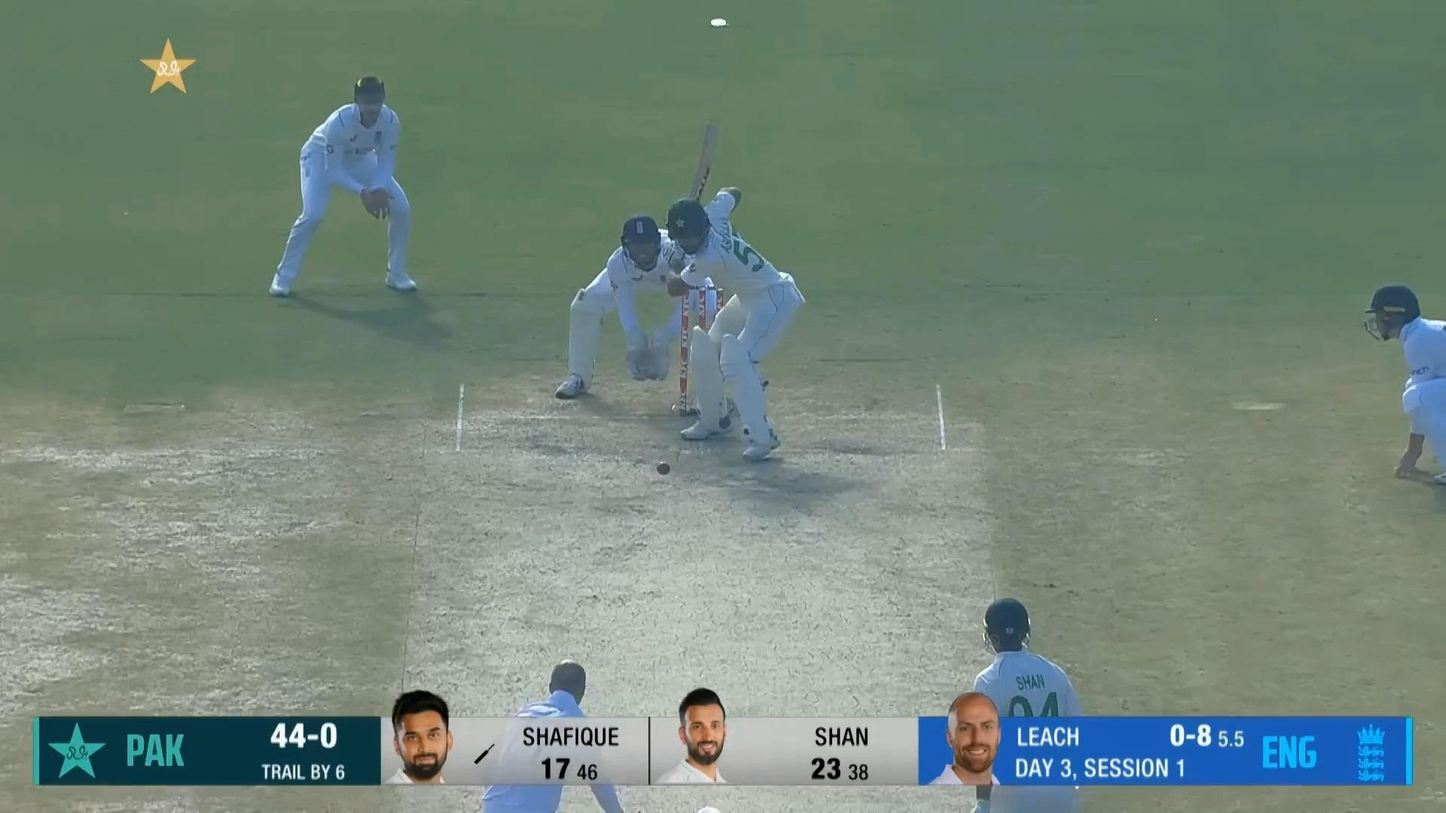BM 1: (665, 121, 807, 463)
BO: (476, 661, 629, 813)
